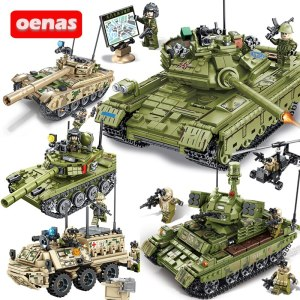Battle Tank: (103, 60, 300, 167), (143, 209, 298, 294), (5, 141, 119, 211), (14, 58, 112, 118)
